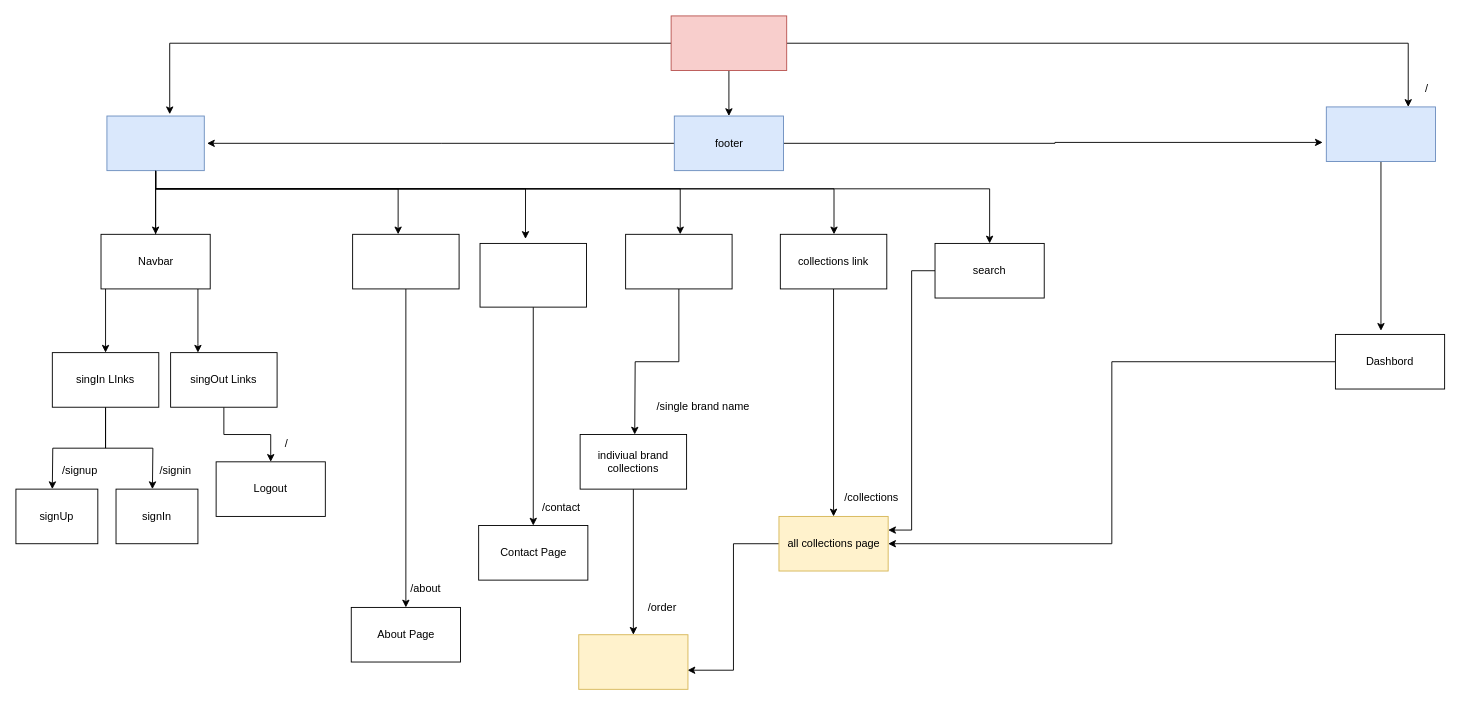
Some shapes in this 1461 by 705 pixel diagram are drawn without their labels. The shapes that lost their labels are listed below. From the top down, each one's box as (x1, y1, x2, y2) in pixels, then its label:
(670, 15, 787, 71): App (root)
(106, 115, 204, 171): Header
(1325, 106, 1436, 162): Home
(352, 233, 459, 289): about link
(479, 243, 586, 307): contact link
(625, 233, 732, 289): brands name dropdown
(578, 634, 688, 689): Order Place page
